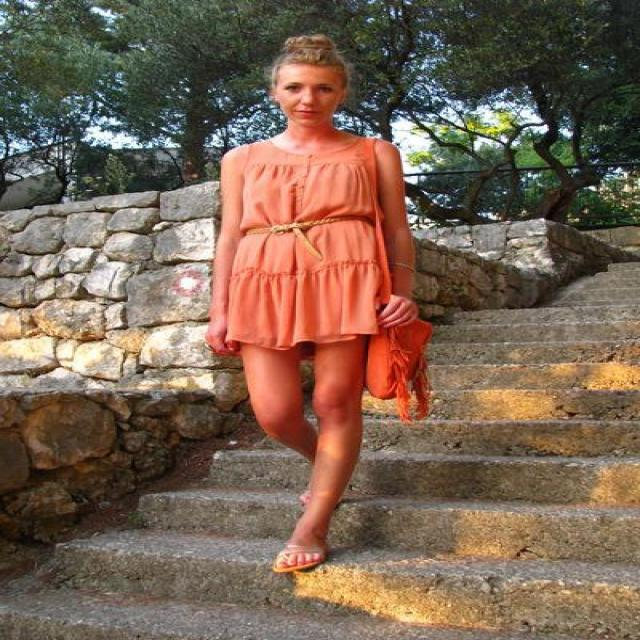bag: (368, 316, 432, 426)
dress: (206, 141, 402, 344)
shoe: (272, 538, 310, 570)
